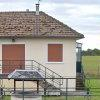stairs: (76, 77, 86, 91)
